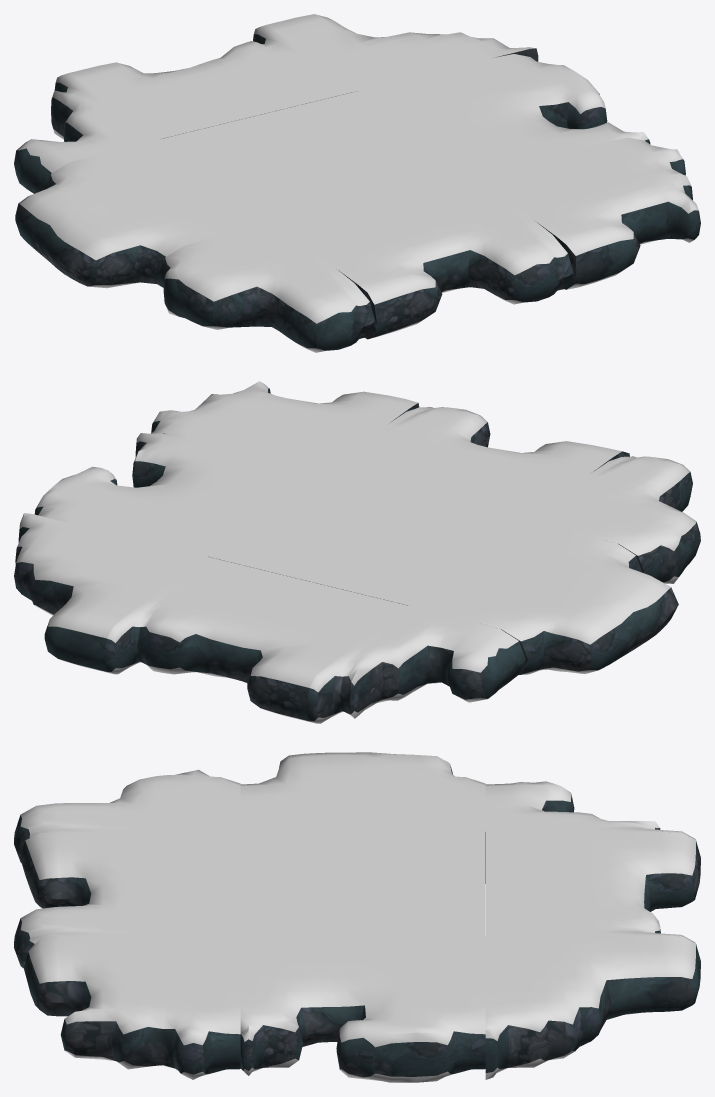
The model's file is RoundTile.fbx.
The picture shows the model from 3 angles, top to bottom: view 1: azimuth 30°, elevation 25°; view 2: azimuth 150°, elevation 25°; view 3: azimuth 270°, elevation 25°; orthographic projection. The views are drawn at different scales.
Visible parts, largest first — view 1: Up_Mid_Round, Mid_Right_Round, Mid_Round, Mid_Left_Round, Down_Left_Round, Up_Right_Round, Down_Mid_Round, Up_Left_Round, Down_Right_Round; view 2: Down_Mid_Round, Mid_Right_Round, Mid_Round, Mid_Left_Round, Up_Mid_Round, Up_Left_Round, Down_Right_Round, Down_Left_Round, Up_Right_Round; view 3: Mid_Left_Round, Down_Left_Round, Mid_Round, Up_Mid_Round, Up_Left_Round, Down_Mid_Round, Mid_Right_Round, Up_Right_Round, Down_Right_Round.
Part boxes in pixels (<box>): Up_Mid_Round: <box>274,175,573,339</box>; Mid_Right_Round: <box>15,139,273,288</box>; Mid_Round: <box>160,91,471,222</box>; Mid_Left_Round: <box>358,54,650,174</box>; Down_Left_Round: <box>472,137,700,289</box>; Up_Right_Round: <box>158,223,375,352</box>; Down_Mid_Round: <box>68,25,357,139</box>; Up_Left_Round: <box>266,14,538,90</box>; Down_Right_Round: <box>14,73,158,193</box>; Down_Mid_Round: <box>104,556,409,722</box>; Mid_Right_Round: <box>410,520,678,674</box>; Mid_Round: <box>207,471,526,605</box>; Mid_Left_Round: <box>34,433,323,556</box>; Up_Mid_Round: <box>324,407,629,520</box>; Up_Left_Round: <box>14,513,206,673</box>; Down_Right_Round: <box>307,606,525,723</box>; Down_Left_Round: <box>151,381,419,470</box>; Up_Right_Round: <box>527,456,700,583</box>; Mid_Left_Round: <box>240,935,485,1082</box>; Down_Left_Round: <box>24,935,240,1079</box>; Mid_Round: <box>240,831,485,935</box>; Up_Mid_Round: <box>14,831,240,968</box>; Up_Left_Round: <box>485,935,700,1079</box>; Down_Mid_Round: <box>485,831,700,943</box>; Mid_Right_Round: <box>240,752,485,883</box>; Up_Right_Round: <box>14,769,240,862</box>; Down_Right_Round: <box>485,781,695,839</box>.
Size of the model in its own units: 569 by 47.16 by 561.
